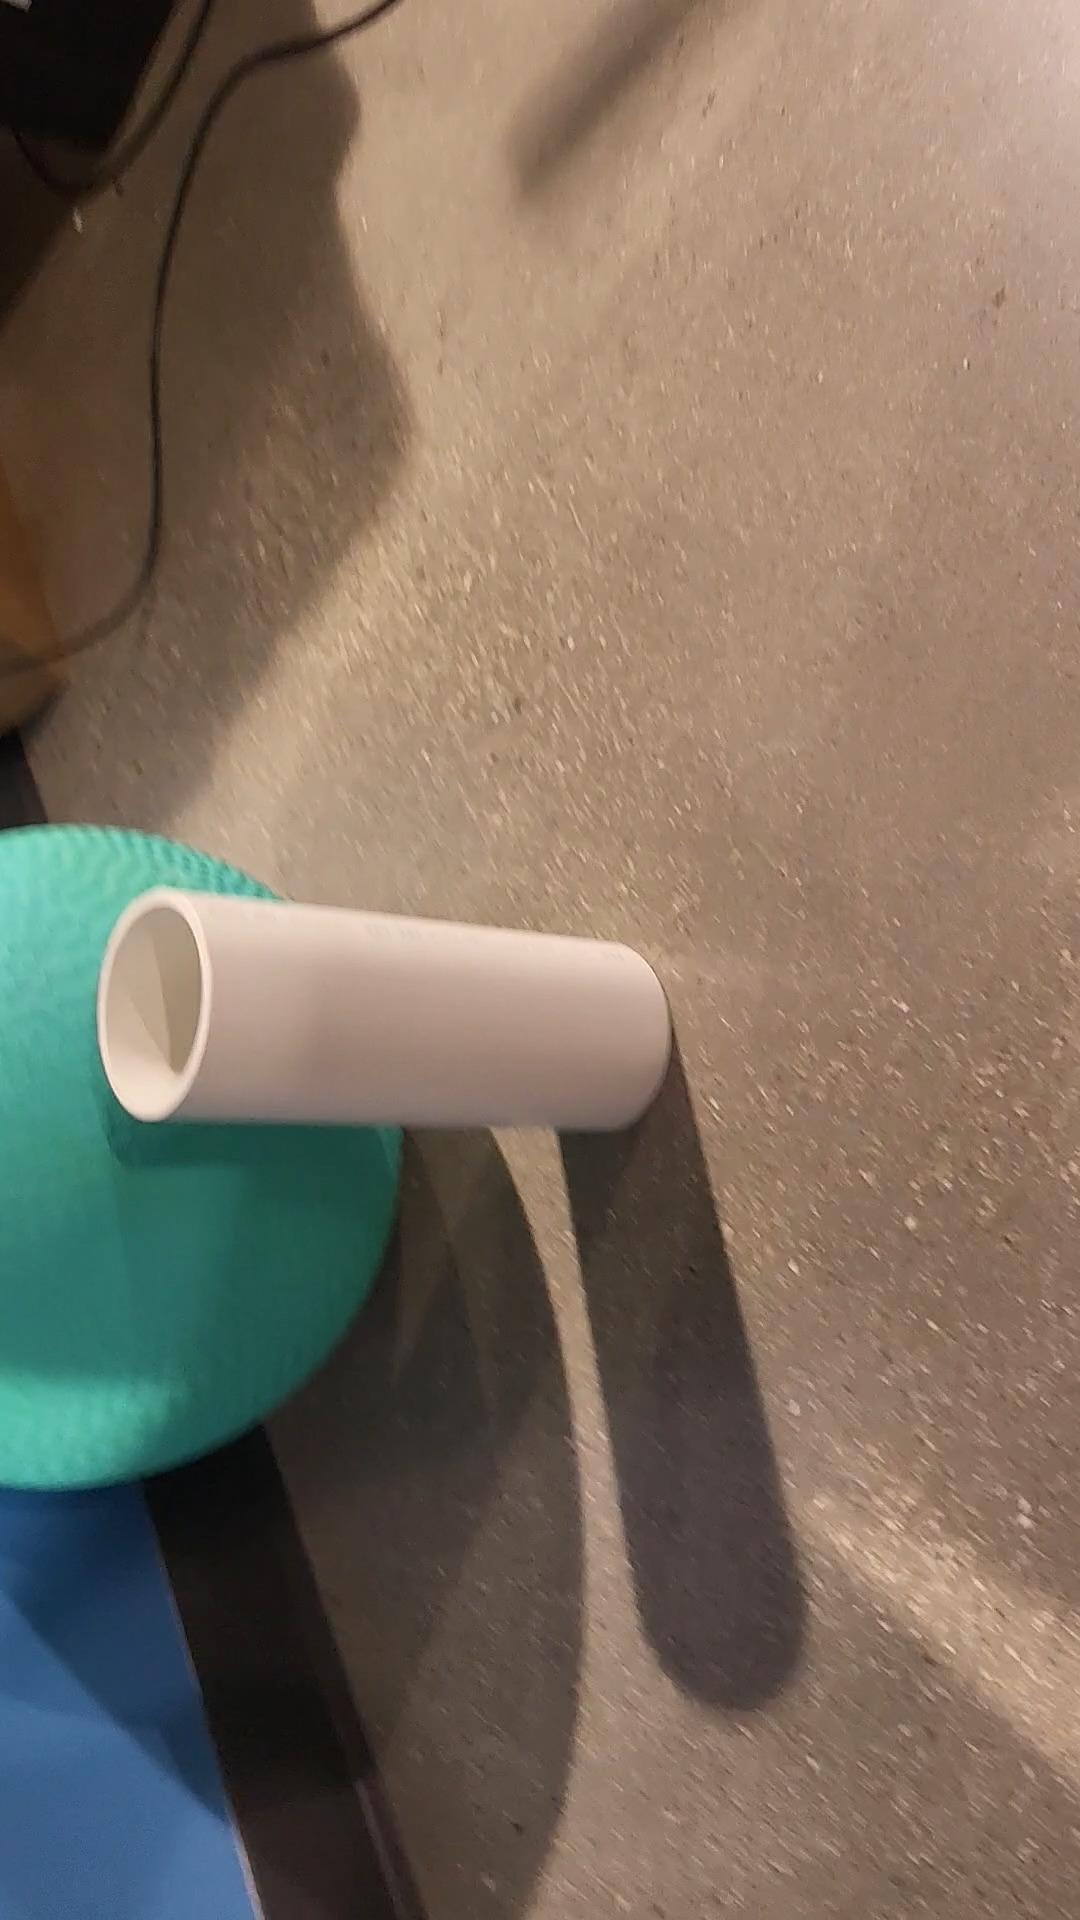coral: (0, 820, 400, 1490), (100, 887, 673, 1135)
